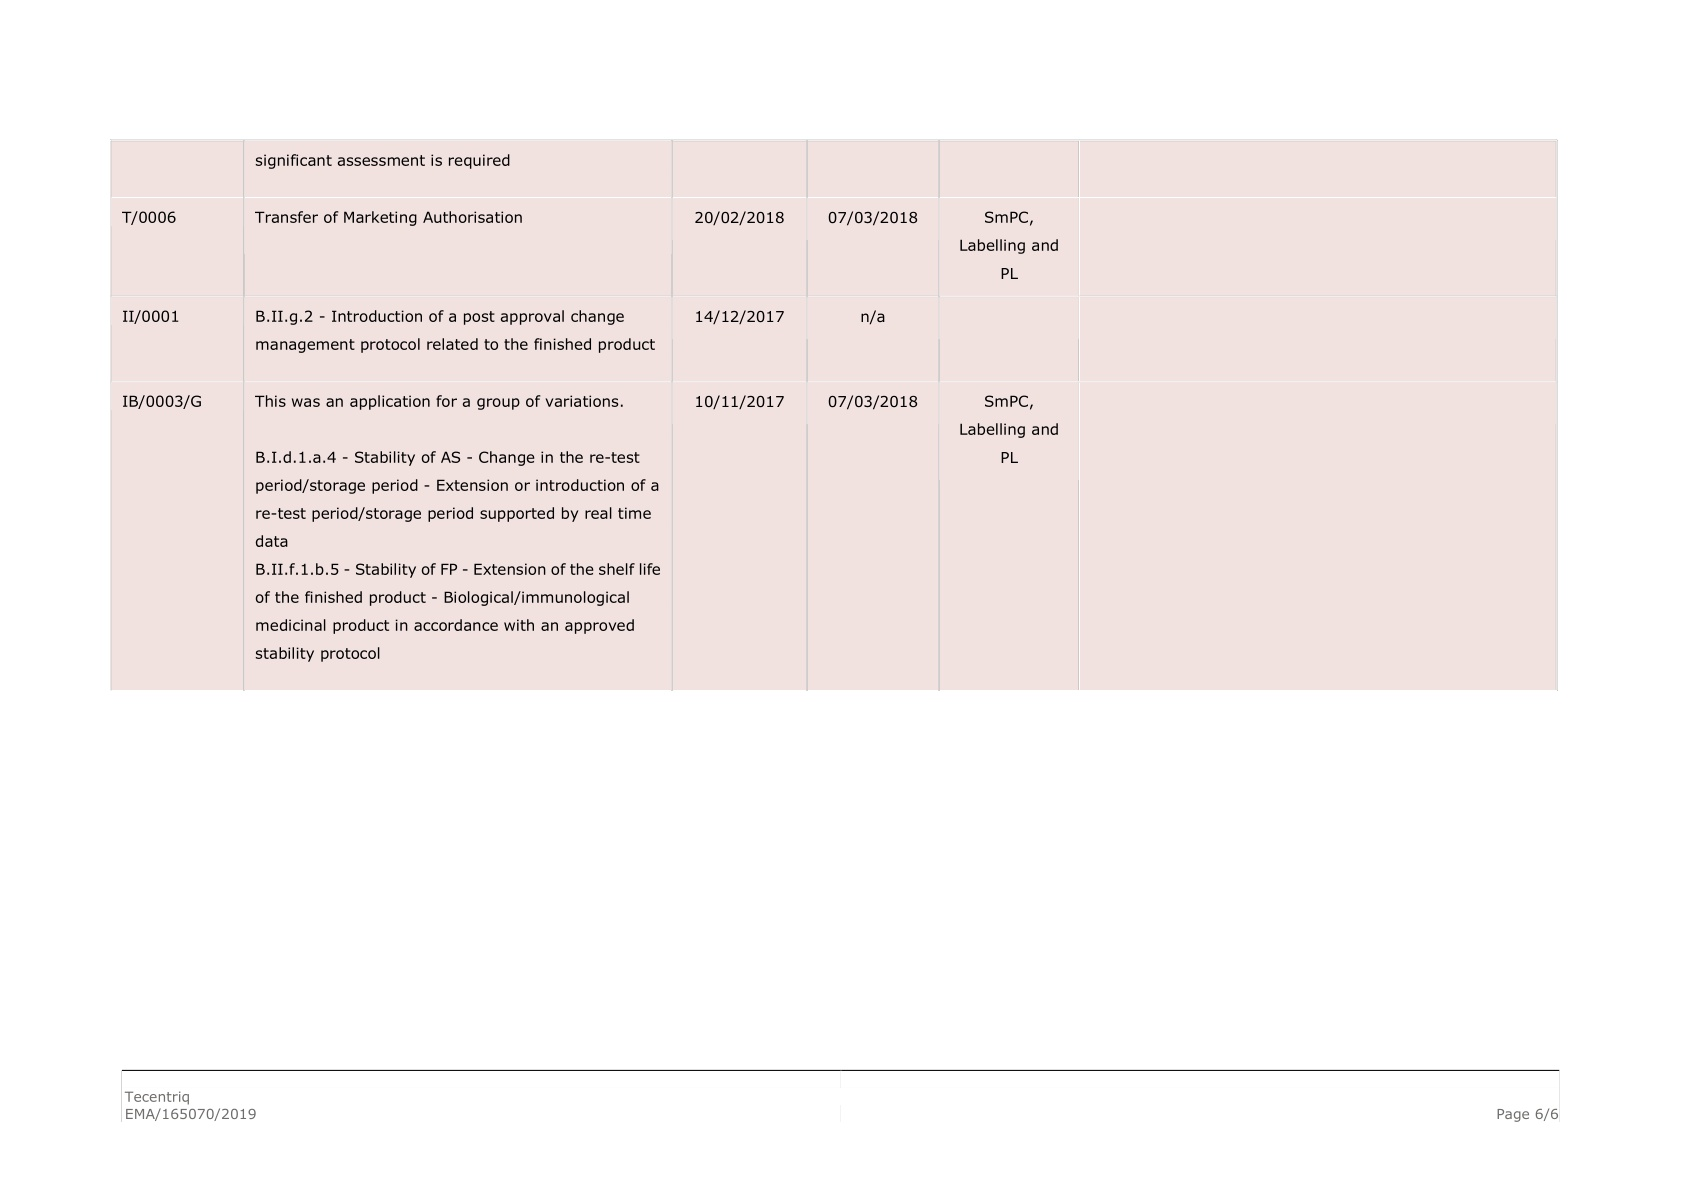full_lined: (109, 138, 1558, 692)
